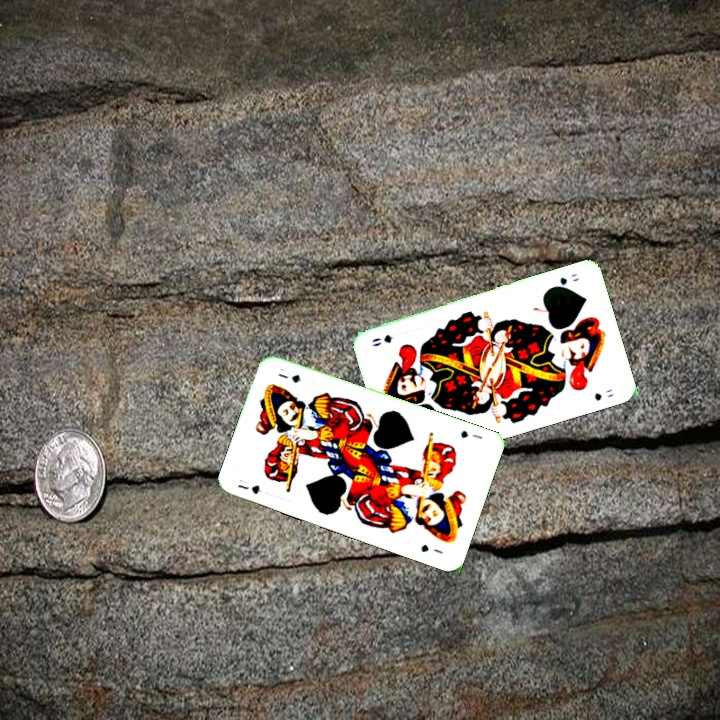GO: (547, 269, 582, 291)
GU: (234, 480, 264, 497), (457, 426, 485, 442)
